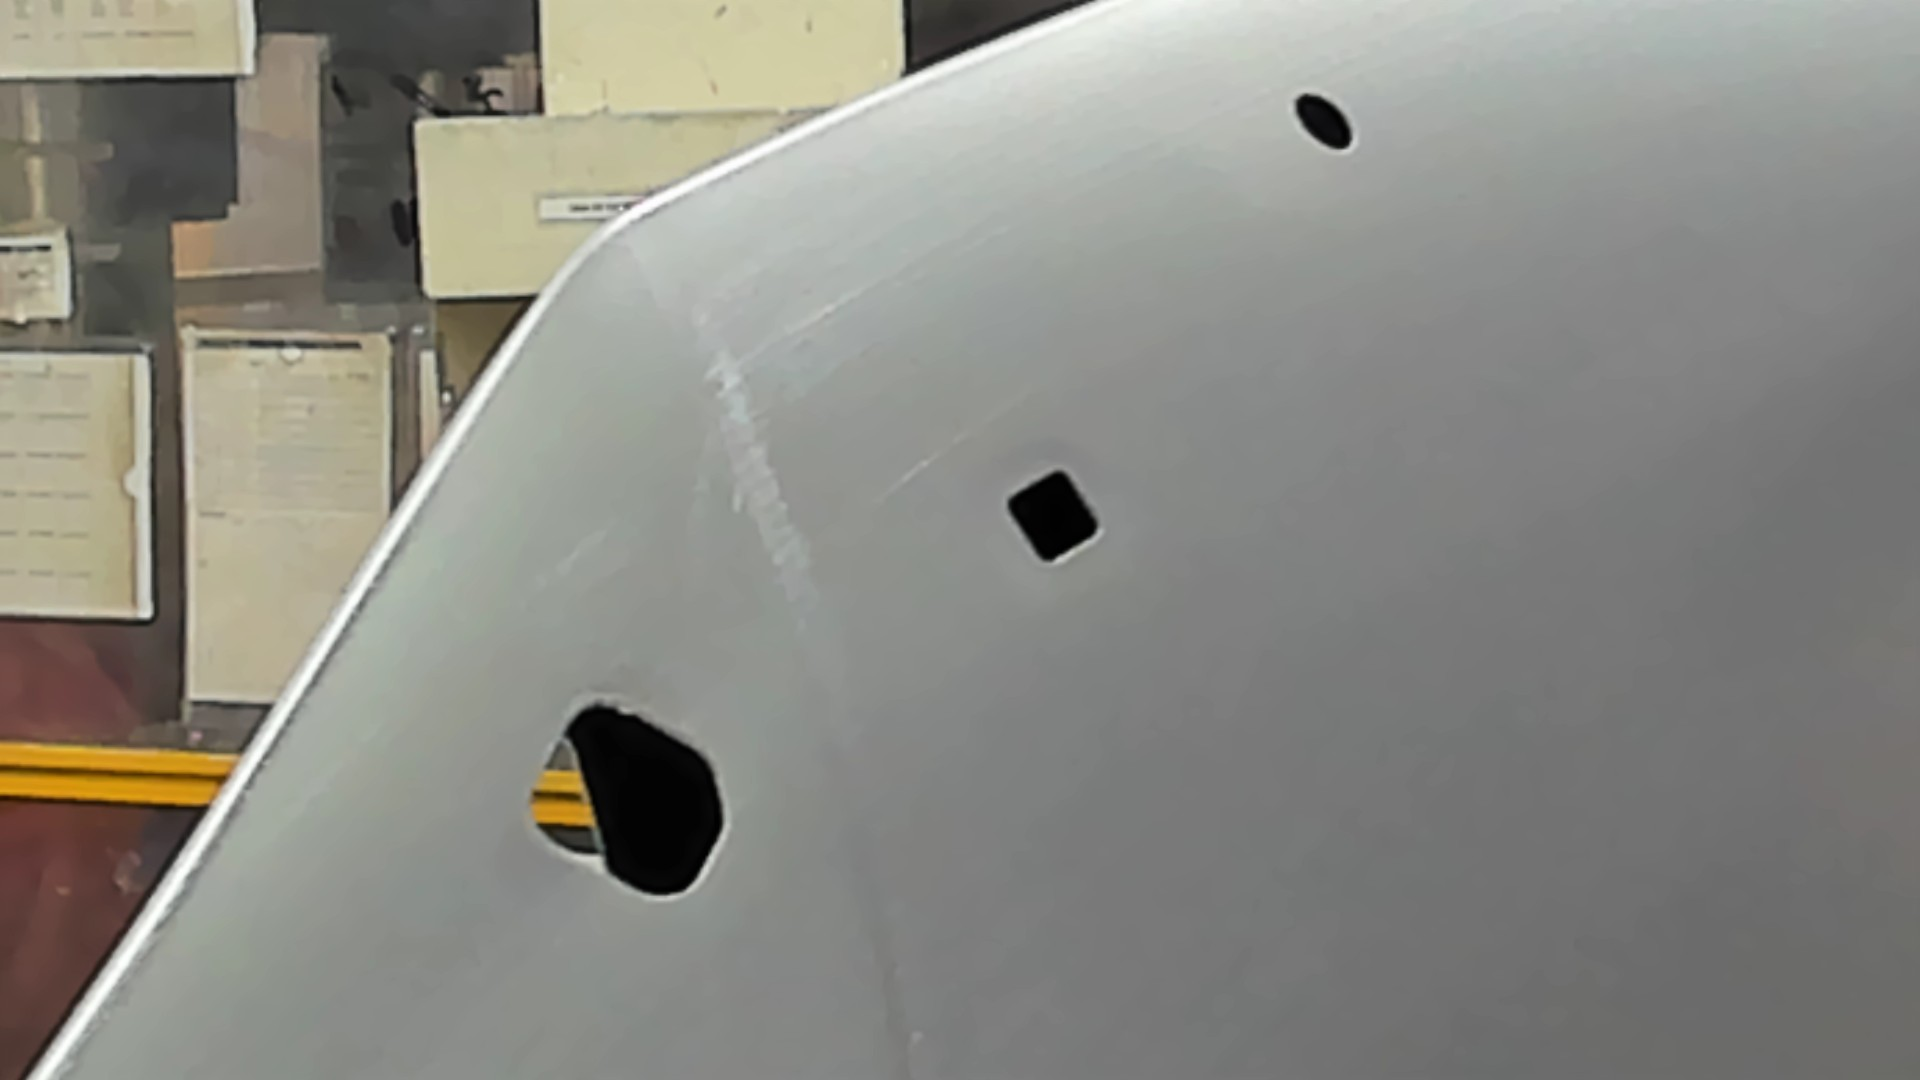chico: (1287, 86, 1360, 156)
grande: (527, 696, 732, 905)
mediano: (1000, 465, 1105, 570)
